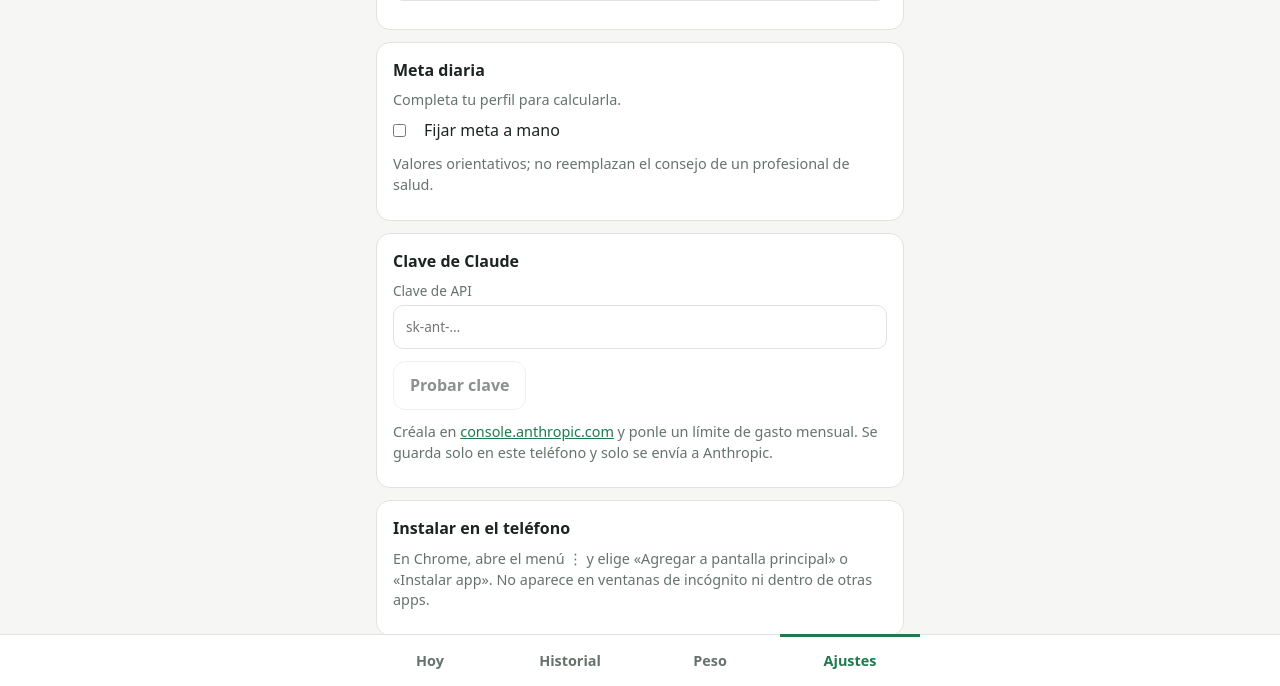
Test: probar clave: válida
(page scrolled)
Type "sk-ant-x" into the password field labelled "Clave de API" at (640, 326), box left=393, top=304, right=887, bottom=348
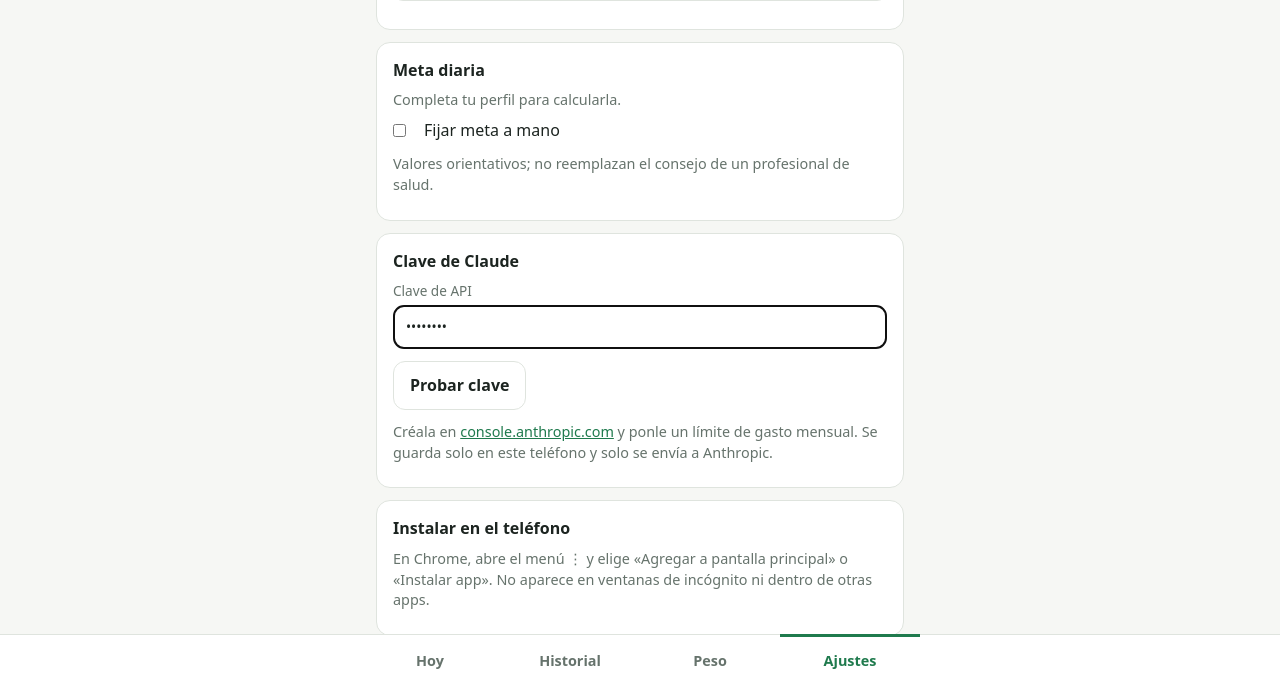
Click the button "Probar clave" at (460, 385), box left=393, top=360, right=526, bottom=410
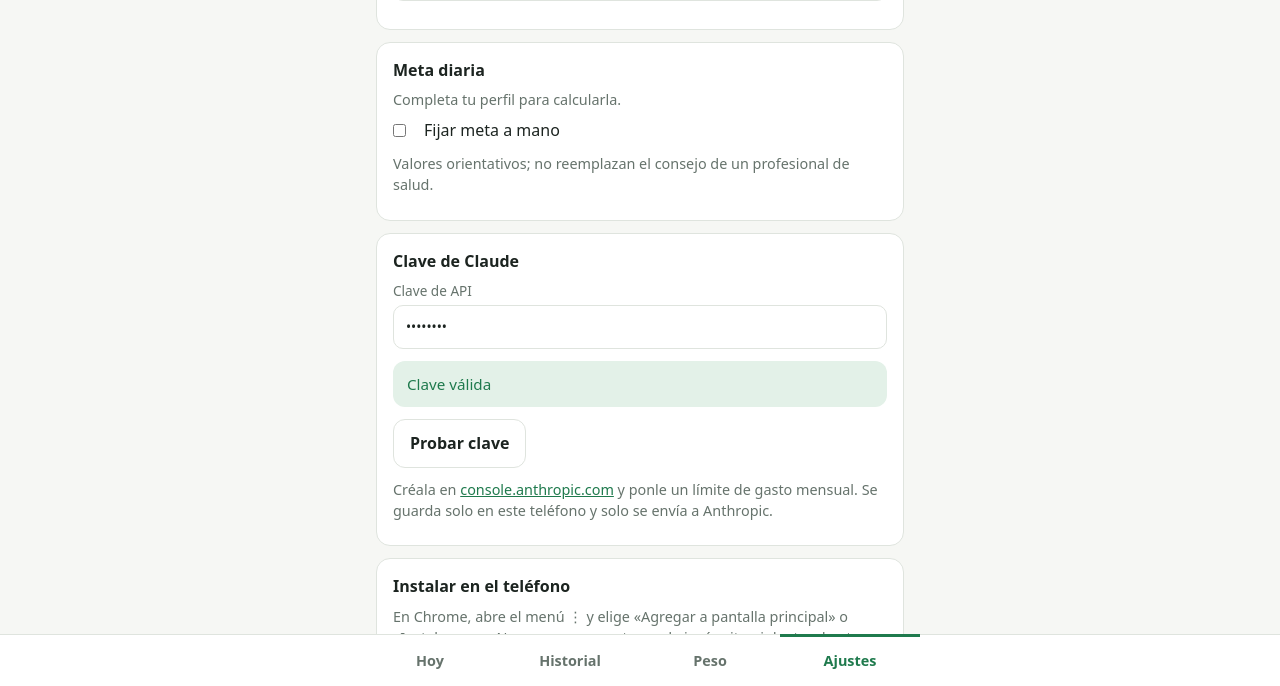
Expected: the text "Clave válida" is shown, left=393, top=360, right=887, bottom=406
